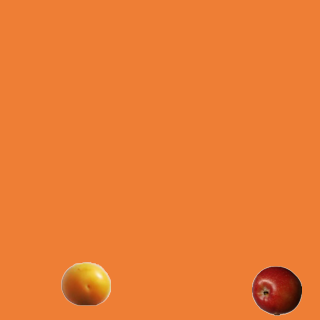Apple Braeburn: (251, 265, 301, 315)
Cherry Wax Yellow: (60, 258, 110, 308)
